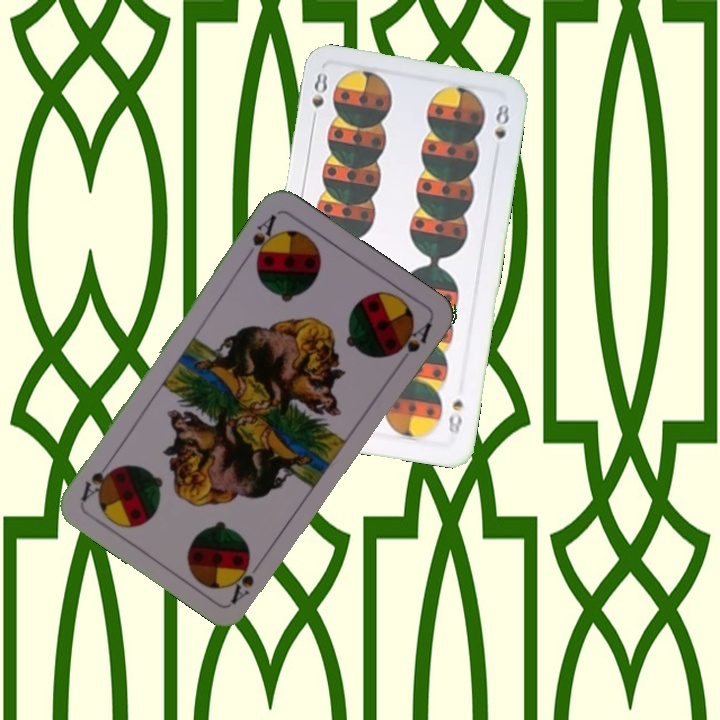S8: (308, 68, 330, 127), (444, 395, 466, 437)
SA: (240, 210, 280, 268), (226, 559, 257, 606)
